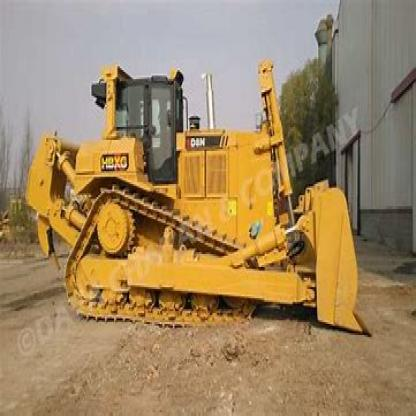bull_dozer/loader/grader: (20, 40, 374, 342)
